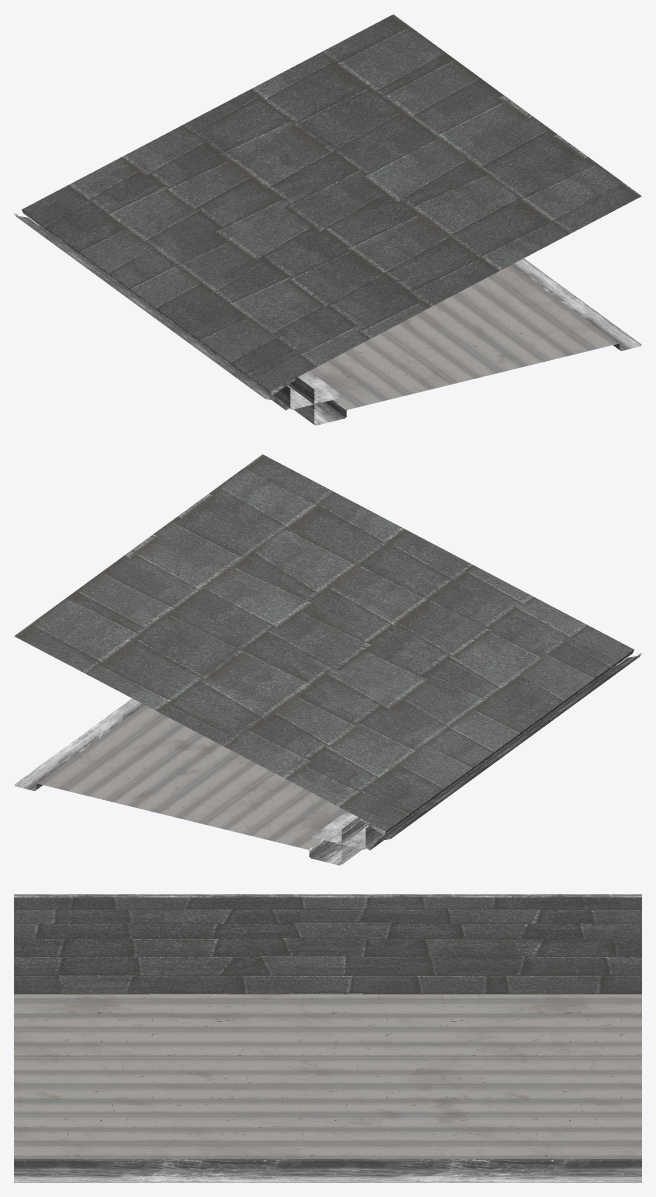
File: SM_Porch_Roof_C3@VertexColors_0.fbx
3 views of the same model, one above another, from view 1: azimuth 30°, elevation 25°; view 2: azimuth 150°, elevation 25°; view 3: azimuth 270°, elevation 25° (orthographic). The views are drawn at different scales.
Visible parts, largest first — view 1: SM_Porch_Roof_C3; view 2: SM_Porch_Roof_C3; view 3: SM_Porch_Roof_C3.
Part boxes in pixels (left/top/right/bottom): SM_Porch_Roof_C3: left=14, top=14, right=641, bottom=425; SM_Porch_Roof_C3: left=14, top=454, right=641, bottom=865; SM_Porch_Roof_C3: left=14, top=894, right=641, bottom=1182.
Bounding box in the file's own units: 233 × 264 × 87.94.
Materials: 3 (3 with a texture image).
